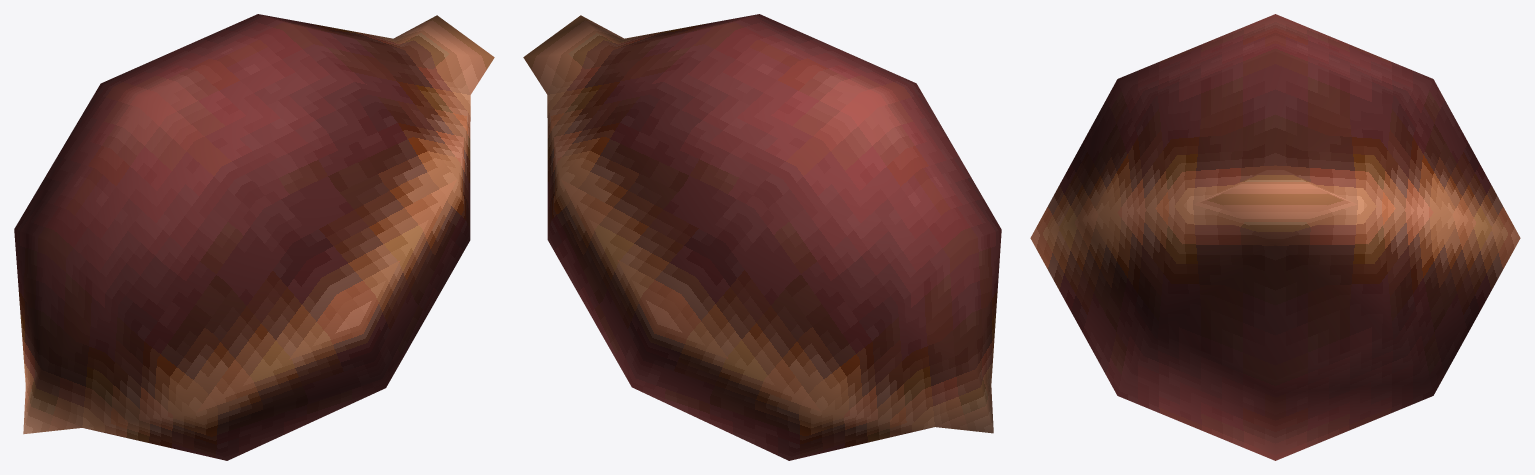
File: dnk_ball_model.obj
The picture shows the model from 3 angles, left to right: view 1: azimuth 30°, elevation 25°; view 2: azimuth 150°, elevation 25°; view 3: azimuth 270°, elevation 25°; orthographic projection. The views are drawn at different scales.
Visible parts, largest first — view 1: nodes_2__meshes[0]; view 2: nodes_2__meshes[0]; view 3: nodes_2__meshes[0].
Part boxes in pixels (x1=…): nodes_2__meshes[0]: x1=14, y1=14, x2=494, y2=460; nodes_2__meshes[0]: x1=523, y1=14, x2=1001, y2=460; nodes_2__meshes[0]: x1=1030, y1=14, x2=1520, y2=460.
Bounding box in the file's own units: 1524 × 1321 × 1369.
Materials: 1 (1 with a texture image).
